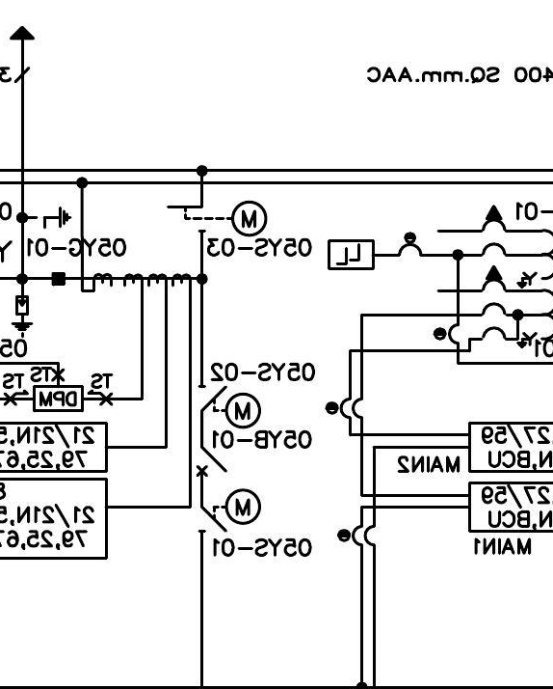115_1way_ds_w_motor: (166, 201, 269, 238), (198, 488, 263, 534), (198, 385, 263, 430)
115_breaker: (196, 447, 228, 478)
115_gs: (34, 205, 73, 230)
115_la: (11, 295, 35, 339)
DPM: (33, 385, 85, 413)
LL: (327, 239, 375, 271)
